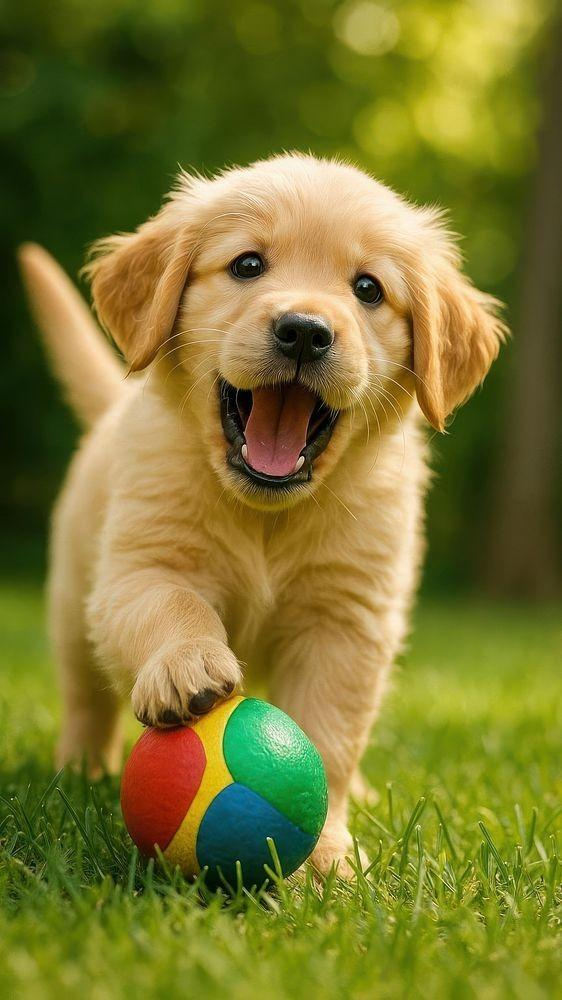puppy-dog: (19, 150, 508, 885)
